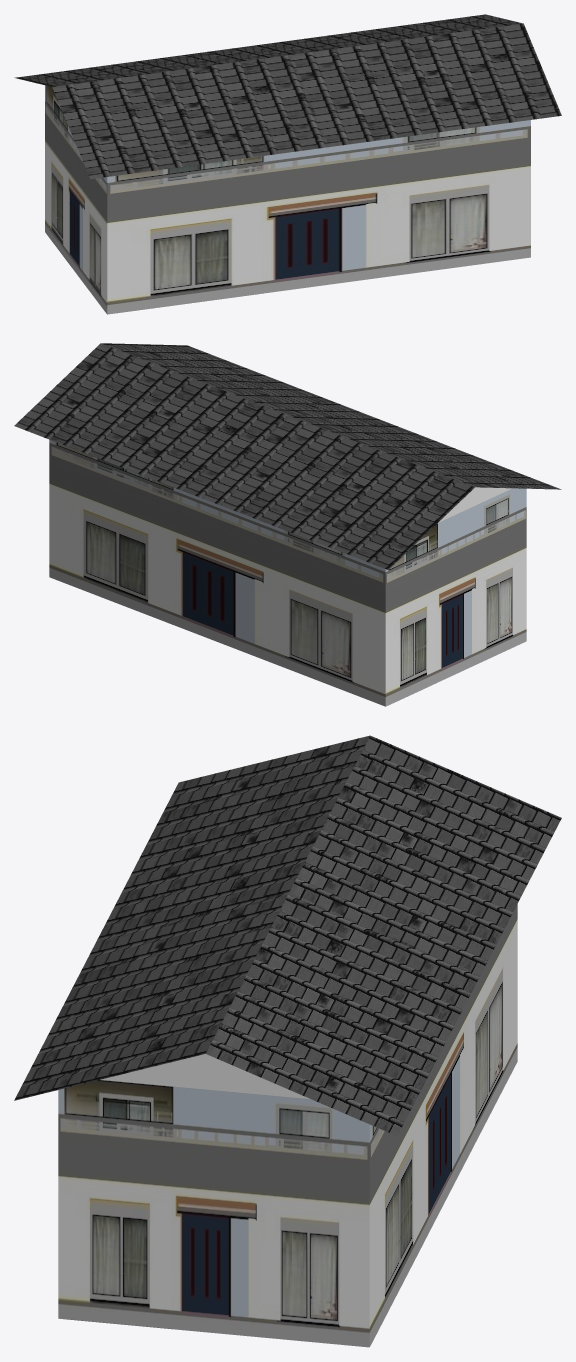
The picture shows the model from 3 angles, top to bottom: view 1: azimuth 30°, elevation 25°; view 2: azimuth 150°, elevation 25°; view 3: azimuth 270°, elevation 25°; orthographic projection. The views are drawn at different scales.
Visible parts, largest first — view 1: CityEngineMaterial_7_m, CityEngineMaterial_8_m; view 2: CityEngineMaterial_7_m, CityEngineMaterial_8_m, CityEngineMaterial_3_m; view 3: CityEngineMaterial_8_m, CityEngineMaterial_7_m, CityEngineMaterial_3_m.
Part boxes in pixels (x1=…): CityEngineMaterial_7_m: x1=45, y1=85, x2=530, y2=314; CityEngineMaterial_8_m: x1=14, y1=14, x2=561, y2=179; CityEngineMaterial_7_m: x1=49, y1=439, x2=526, y2=706; CityEngineMaterial_8_m: x1=14, y1=343, x2=561, y2=569; CityEngineMaterial_3_m: x1=438, y1=487, x2=512, y2=522; CityEngineMaterial_8_m: x1=14, y1=735, x2=561, y2=1135; CityEngineMaterial_7_m: x1=58, y1=904, x2=517, y2=1347; CityEngineMaterial_3_m: x1=100, y1=1054, x2=310, y2=1099.
Bounding box in the file's own units: 21.42 × 8.34 × 14.02.
